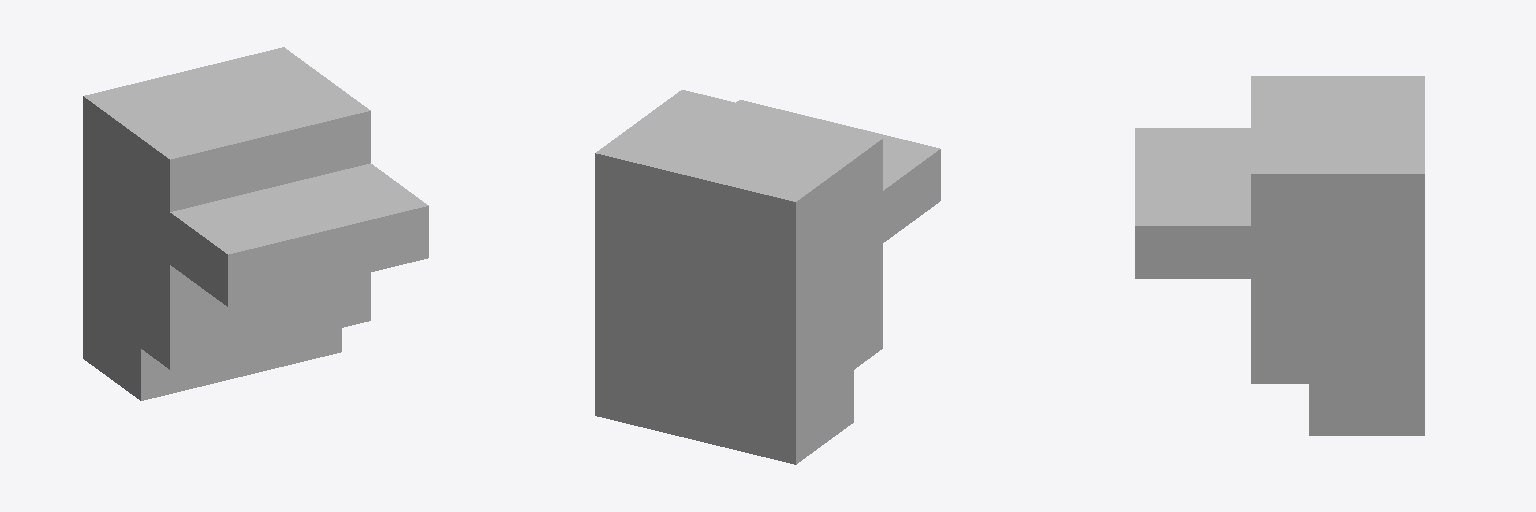
File: E2-Exp-p04.obj
The picture shows the model from 3 angles: view 1: azimuth 30°, elevation 25°; view 2: azimuth 150°, elevation 25°; view 3: azimuth 270°, elevation 25°; orthographic projection.
Parts seen in each view (by area): view 1: mesh7, mesh0, mesh10, mesh5, mesh6, mesh4, mesh3; view 2: mesh1, mesh7, mesh0, mesh5; view 3: mesh8, mesh0, mesh5.
Boxes of the visible parts, <box> form: mesh7: <box>83,96,227,400</box>; mesh0: <box>84,47,370,159</box>; mesh10: <box>170,265,370,369</box>; mesh5: <box>170,163,428,254</box>; mesh6: <box>228,206,428,306</box>; mesh4: <box>170,111,370,211</box>; mesh3: <box>141,328,341,400</box>; mesh1: <box>595,153,795,464</box>; mesh7: <box>796,139,940,464</box>; mesh0: <box>596,90,882,201</box>; mesh5: <box>736,100,939,190</box>; mesh8: <box>1135,174,1424,435</box>; mesh0: <box>1251,76,1424,173</box>; mesh5: <box>1135,128,1250,225</box>.
Size of the model in its own units: 0.08 by 0.1 by 0.1.